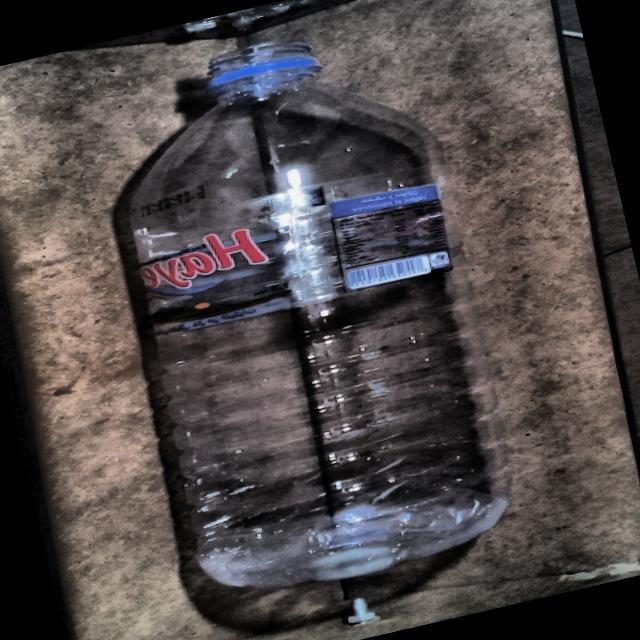plastic bottle: (127, 40, 508, 586)
